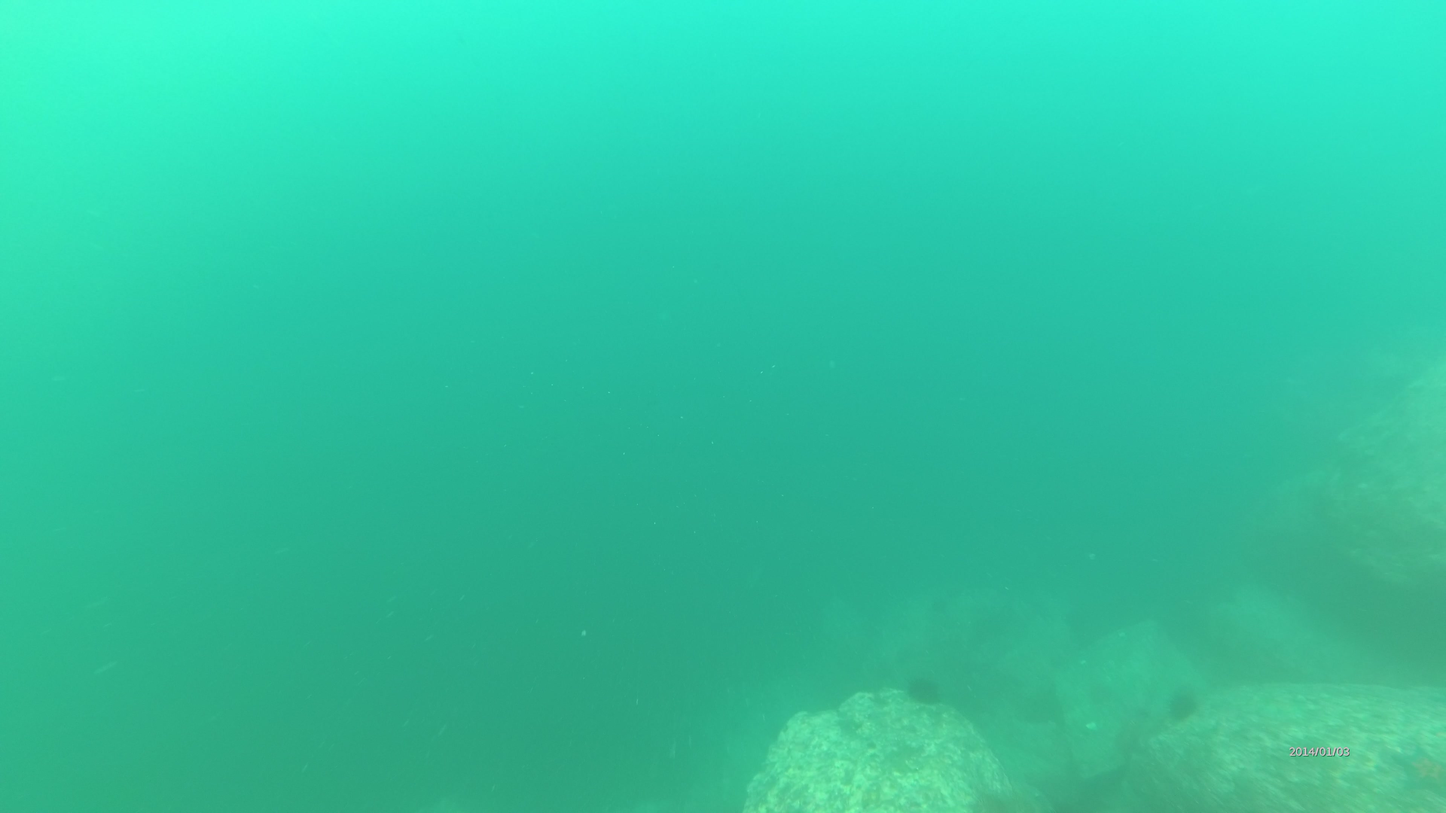starfish: (1166, 683, 1197, 720), (905, 672, 940, 704)
